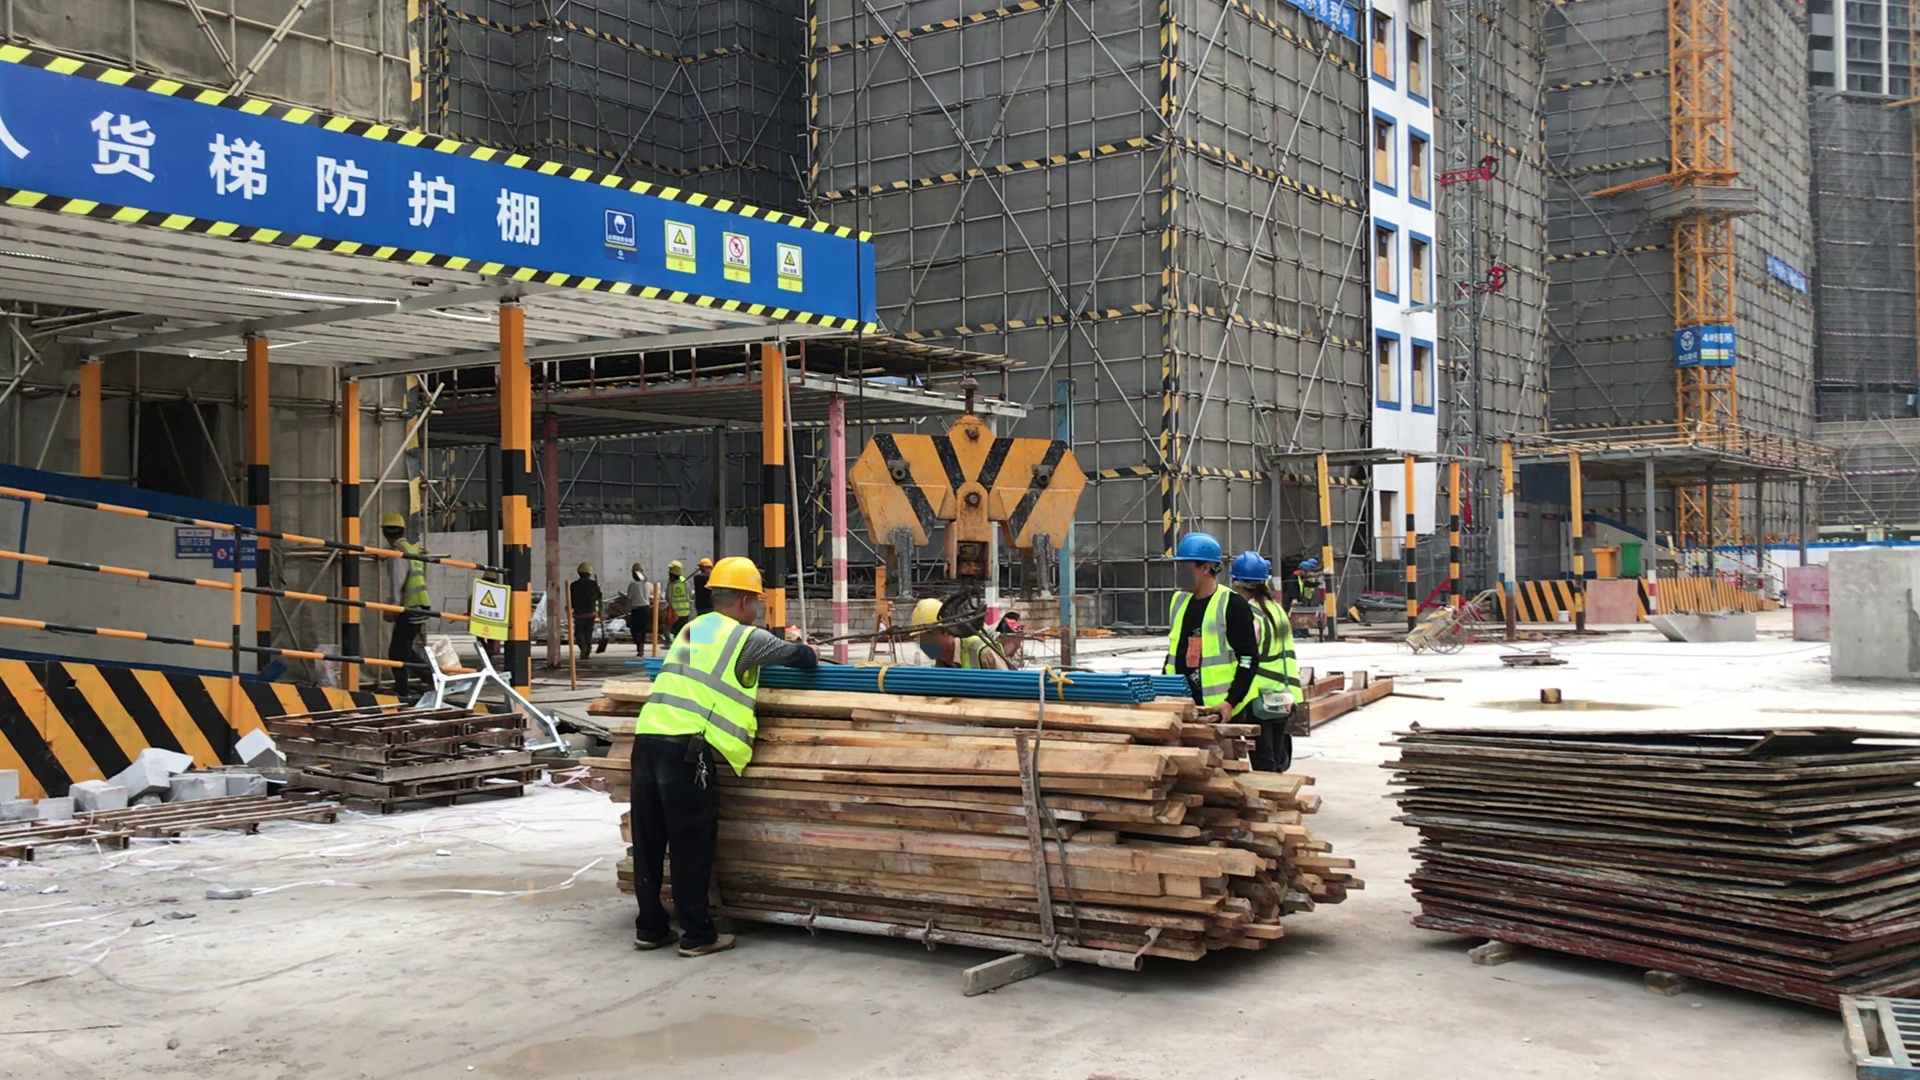board: (1380, 708, 1920, 1020)
helmet: (701, 554, 765, 596), (1164, 530, 1226, 565), (1227, 550, 1273, 581), (911, 597, 949, 631), (381, 513, 410, 530), (1296, 554, 1320, 572), (667, 561, 687, 577), (630, 558, 649, 574), (575, 560, 594, 574), (631, 562, 645, 573), (694, 556, 714, 565)
hook: (836, 405, 1089, 578)
hopper: (1640, 605, 1760, 649)
person: (629, 552, 824, 956), (1163, 529, 1264, 756), (1232, 547, 1306, 779), (380, 510, 438, 696), (908, 593, 1016, 677), (568, 556, 602, 664), (618, 561, 655, 658), (660, 560, 695, 636), (1299, 554, 1326, 621), (695, 551, 713, 612)
slogan: (3, 42, 881, 349)
vest: (629, 606, 766, 777), (1161, 585, 1302, 705)
wood: (638, 662, 1370, 989)
